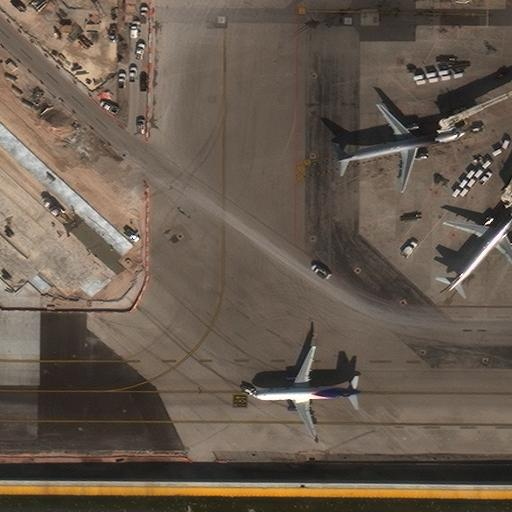Medium Civil Transport: (336, 102, 465, 192), (245, 346, 361, 439), (444, 200, 511, 290)
